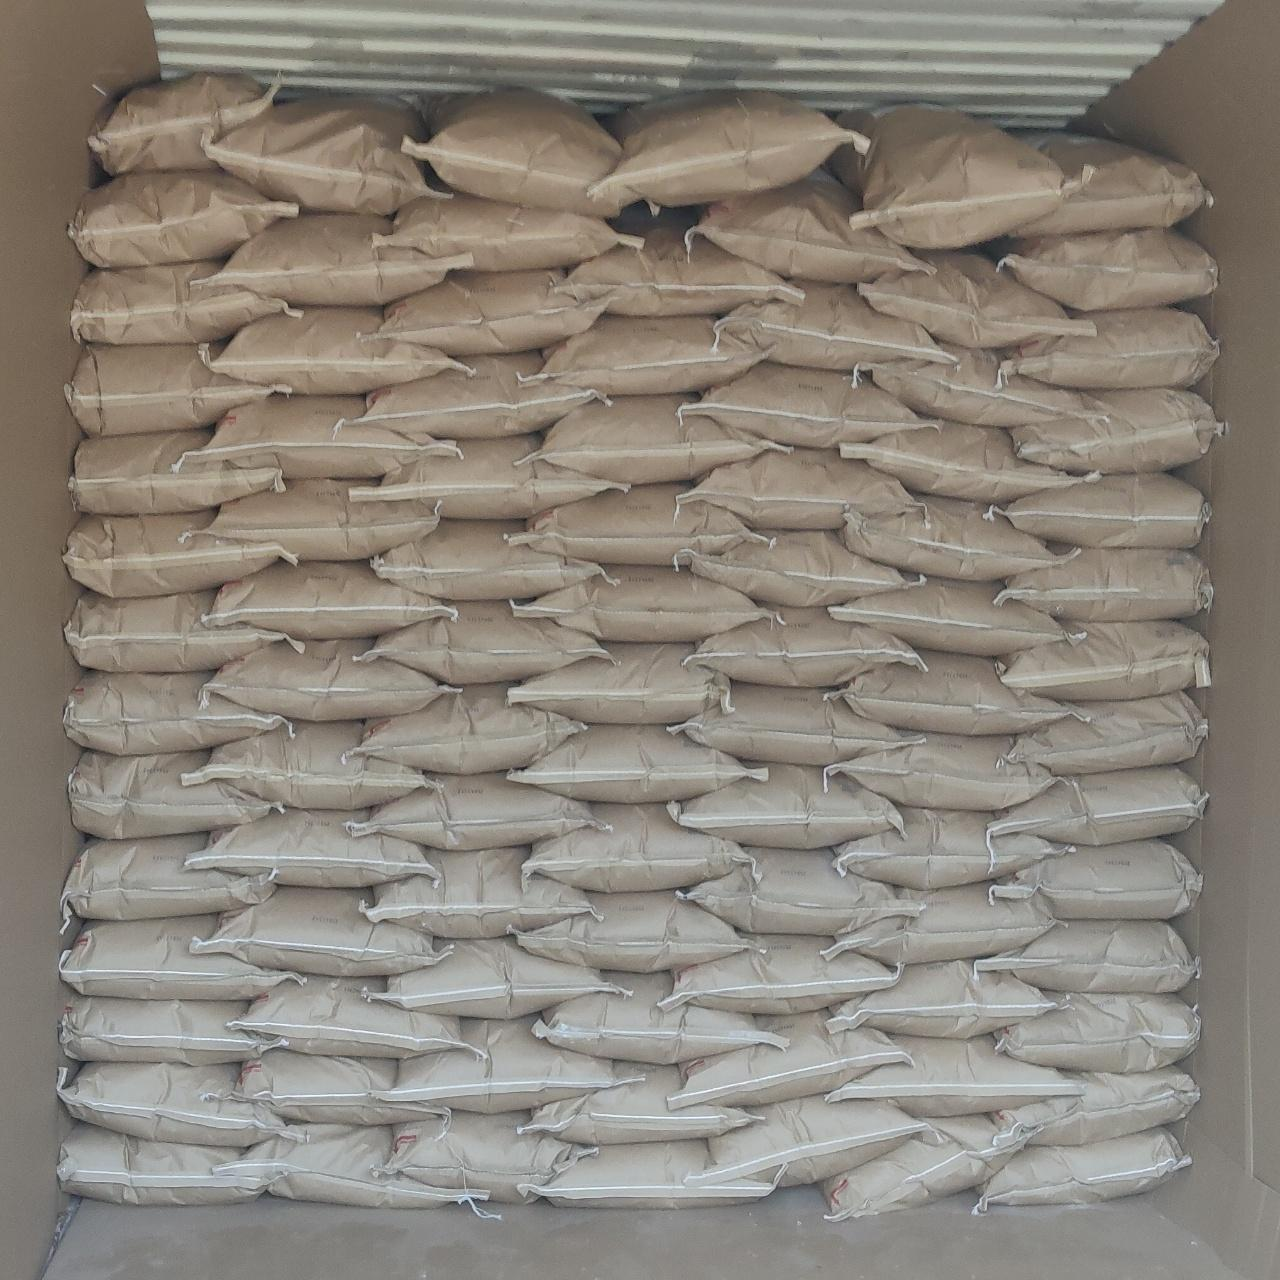sack: (586, 91, 869, 206), (842, 108, 1065, 246), (204, 98, 445, 215), (406, 90, 629, 215), (688, 172, 926, 282), (220, 1124, 486, 1212), (350, 434, 628, 516), (392, 1017, 634, 1110), (207, 215, 462, 302), (860, 252, 1092, 348), (536, 972, 782, 1062), (204, 308, 468, 390), (670, 1012, 910, 1102), (350, 352, 606, 436), (195, 888, 444, 974), (198, 396, 456, 478), (70, 172, 294, 266), (680, 362, 930, 445), (540, 394, 776, 482), (365, 938, 628, 1016), (824, 1116, 1022, 1220), (828, 1034, 1076, 1116), (186, 722, 428, 806), (714, 284, 948, 370), (57, 914, 300, 998), (682, 847, 914, 934), (554, 234, 799, 316), (842, 422, 1094, 502), (238, 976, 482, 1058), (348, 774, 608, 850), (365, 602, 606, 685), (358, 685, 583, 772), (1012, 138, 1210, 238), (374, 196, 640, 270), (515, 484, 754, 566), (365, 847, 590, 934), (856, 346, 1099, 425), (824, 881, 1054, 966), (66, 343, 280, 434), (57, 1064, 300, 1144), (186, 810, 438, 886), (674, 685, 914, 764), (840, 651, 1070, 734), (66, 590, 300, 670), (64, 512, 292, 595), (524, 804, 748, 888), (207, 640, 448, 719), (510, 726, 765, 799), (376, 272, 606, 354), (672, 764, 900, 846), (64, 835, 274, 924), (708, 1096, 926, 1182), (524, 316, 764, 394), (206, 561, 450, 638), (976, 1128, 1190, 1214), (836, 806, 1068, 886), (520, 1064, 760, 1142), (68, 750, 278, 838), (380, 1112, 590, 1200), (830, 960, 1062, 1039), (516, 892, 748, 971), (832, 578, 1070, 654), (512, 566, 765, 638), (842, 496, 1062, 578), (690, 608, 924, 686), (72, 263, 298, 342), (206, 481, 438, 558), (372, 522, 606, 598), (658, 937, 896, 1012), (682, 532, 922, 606), (90, 74, 270, 172), (998, 229, 1216, 309), (64, 672, 288, 750), (688, 448, 912, 526), (1000, 308, 1218, 388), (512, 644, 726, 724), (990, 765, 1206, 844), (70, 430, 282, 510), (1012, 390, 1224, 470), (826, 734, 1054, 808), (992, 838, 1200, 918), (522, 1141, 774, 1206), (218, 1051, 445, 1124), (998, 622, 1210, 700), (60, 1124, 263, 1204), (1002, 694, 1206, 772), (990, 474, 1208, 546), (990, 1065, 1198, 1142), (996, 994, 1198, 1070), (1000, 549, 1212, 620), (978, 922, 1198, 990), (60, 996, 278, 1062)
